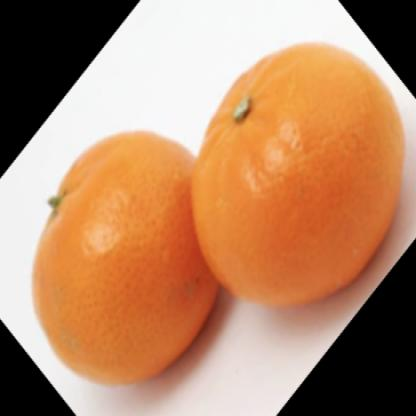fresh: (31, 41, 407, 384)
